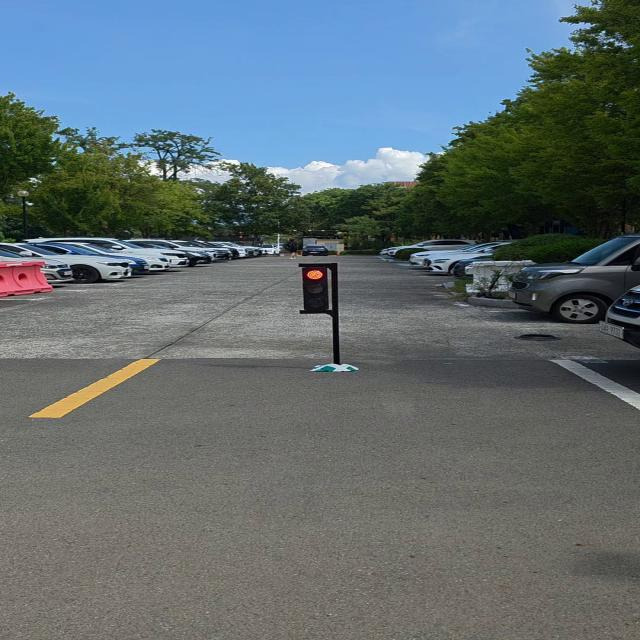red: (293, 261, 333, 317)
